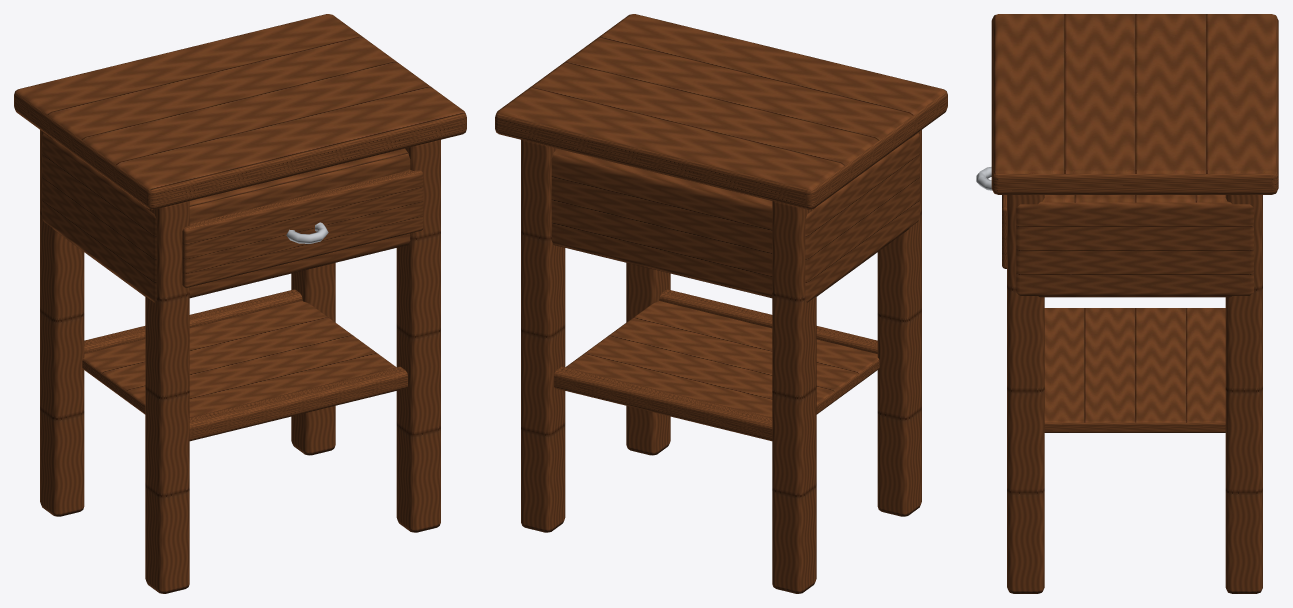
The model's file is halloween-slasher-street-hallway-side-table-e9c72503__27325.glb.
3 renders of one model, left to right at view 1: azimuth 30°, elevation 25°; view 2: azimuth 150°, elevation 25°; view 3: azimuth 270°, elevation 25°, orthographic. The views are drawn at different scales.
Visible parts, largest first — view 1: hallway-side-table; view 2: hallway-side-table; view 3: hallway-side-table.
Boxes of the visible parts, box(x1,y1,x2,y2) form: hallway-side-table: box(14, 14, 466, 593); hallway-side-table: box(495, 14, 947, 593); hallway-side-table: box(976, 14, 1278, 593).
Bounding box in the file's own units: 0.56 × 0.7 × 0.4424.
Materials: 3 (1 with a texture image).
